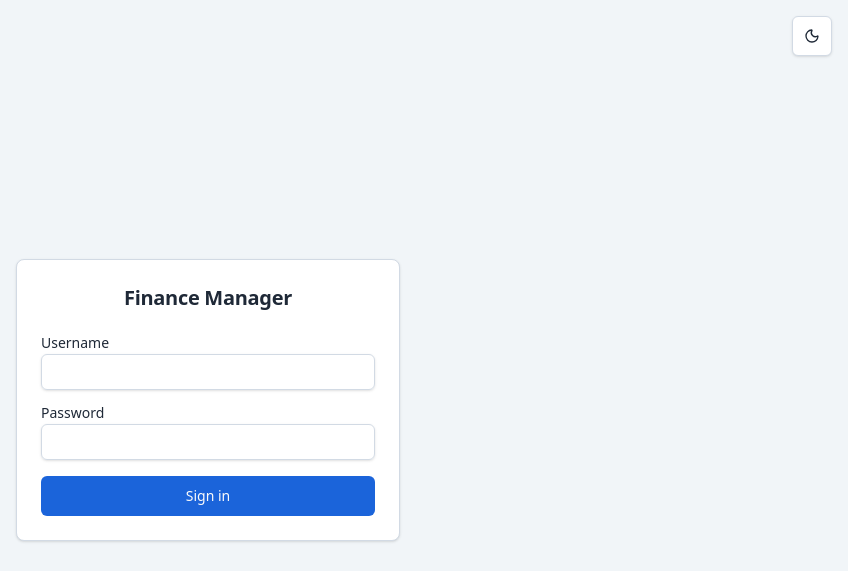
Test case: LoginPage — client-side validation (Req 1.3) › shows error when password is too short (< 8 chars)
Type "admin" into the field labelled "Username" at (208, 372), box [41,354,375,390]
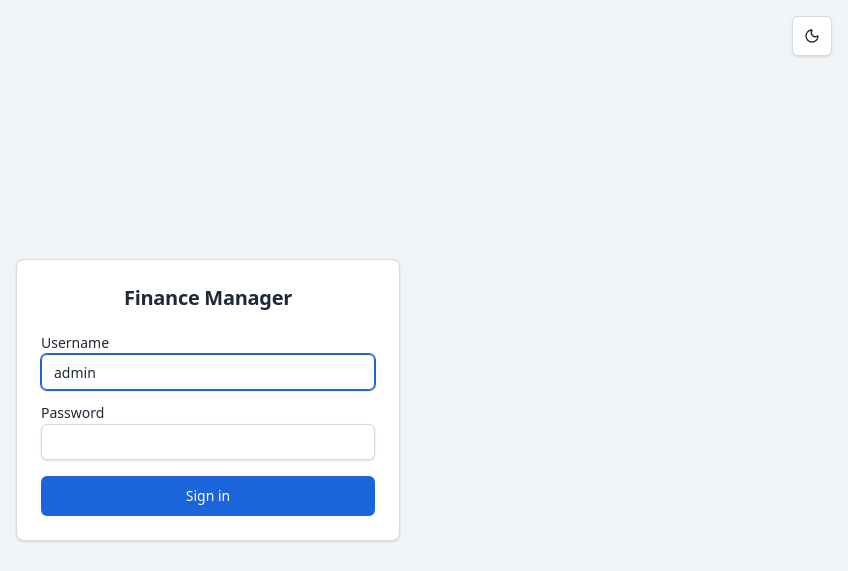
Type "short" into the password field labelled "Password" at (208, 442), box [41,424,375,460]
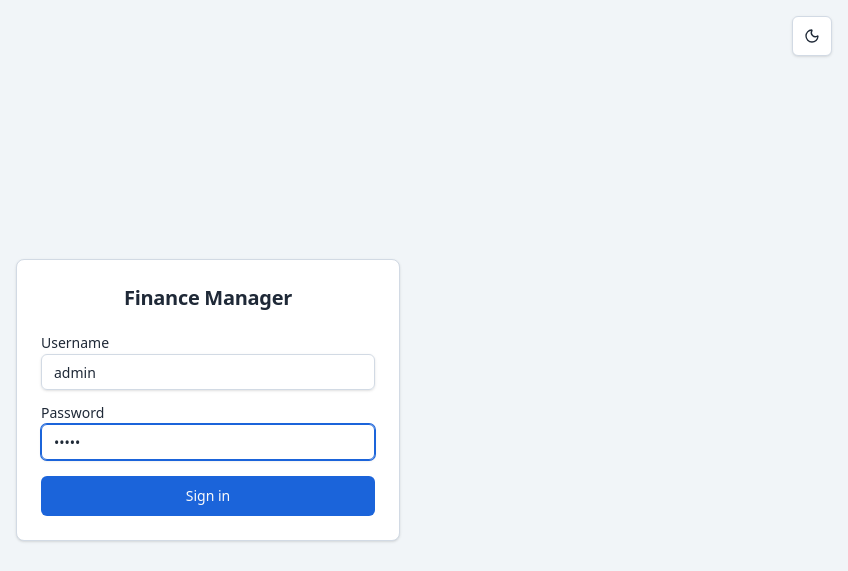
Click the button "Sign in" at (208, 496), box [41,476,375,516]
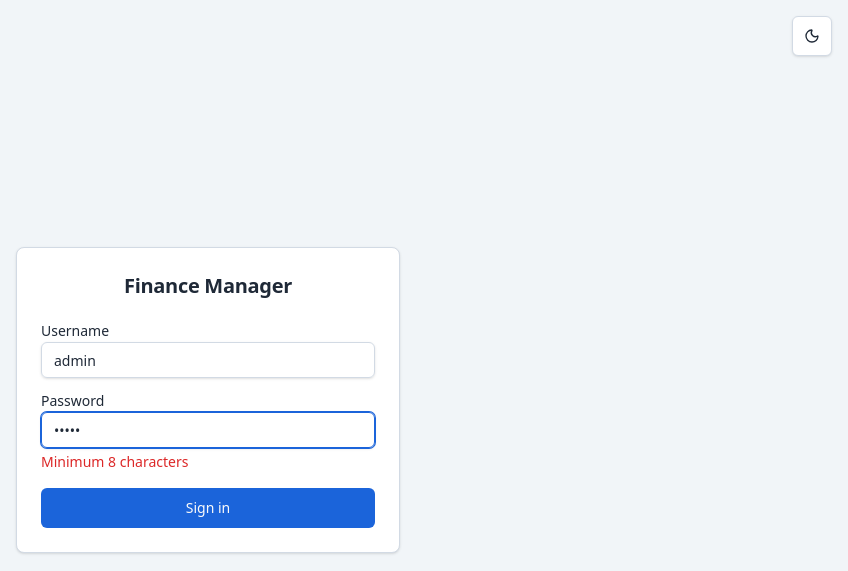
Expected: the text "Minimum 8 characters" is shown, [41,452,188,471]
